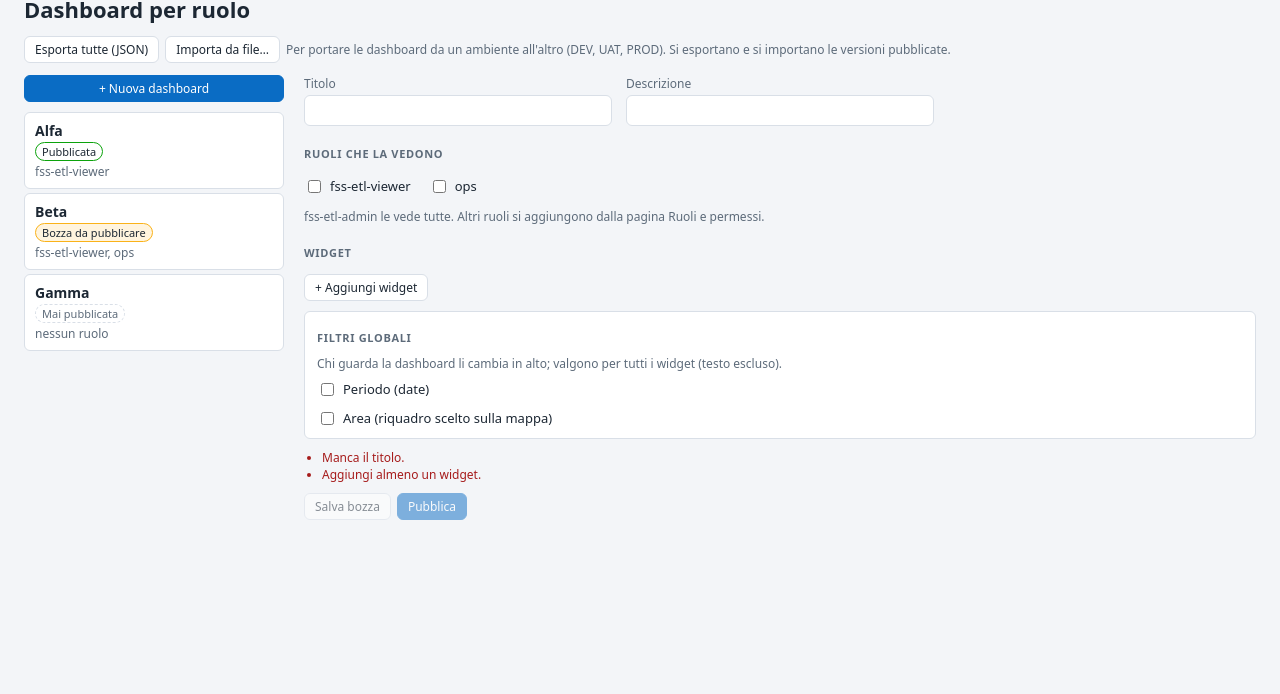
Test: AdminDashboards: bozze e pubblicazione › elimina: dashboard e bozza insieme; bozza nuova da sola
The width and height of the screenshot is (1280, 694).
Click the button "Beta Bozza da pubblicare fss-etl-viewer, ops" at coordinates (154, 232), box [24,193,284,270]
(page scrolled)
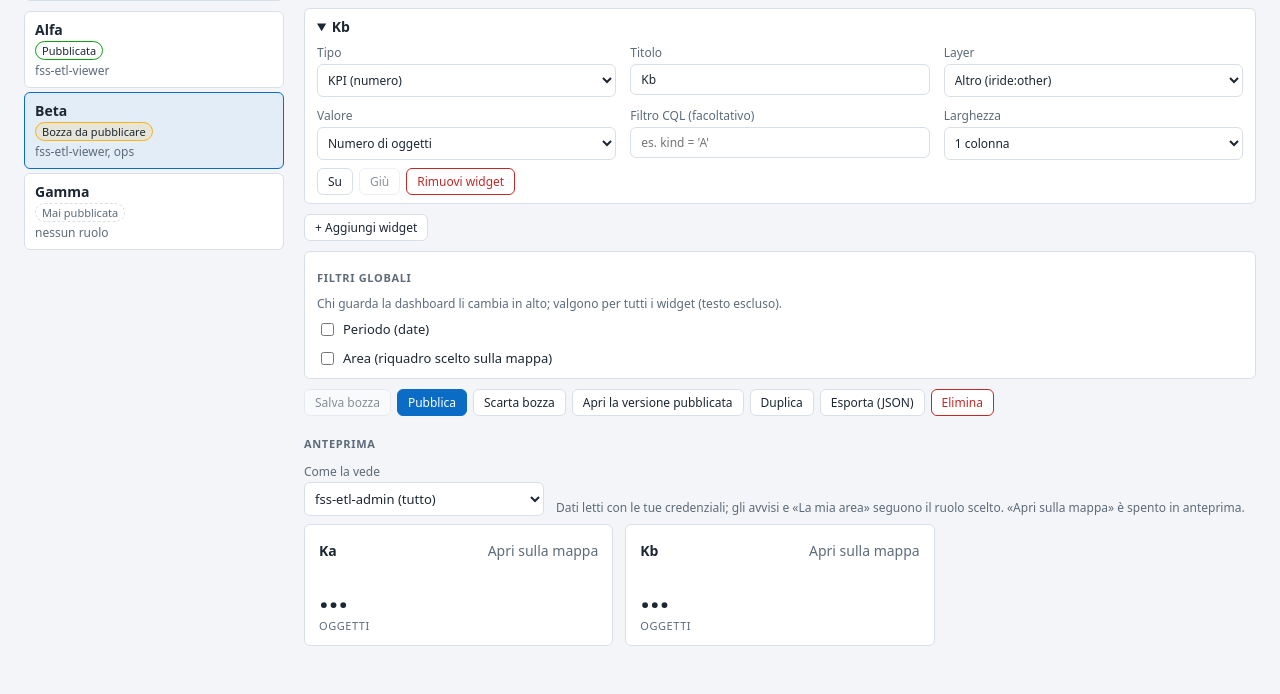
Click the button "Elimina" at coordinates (962, 402), box [931,389,994,416]
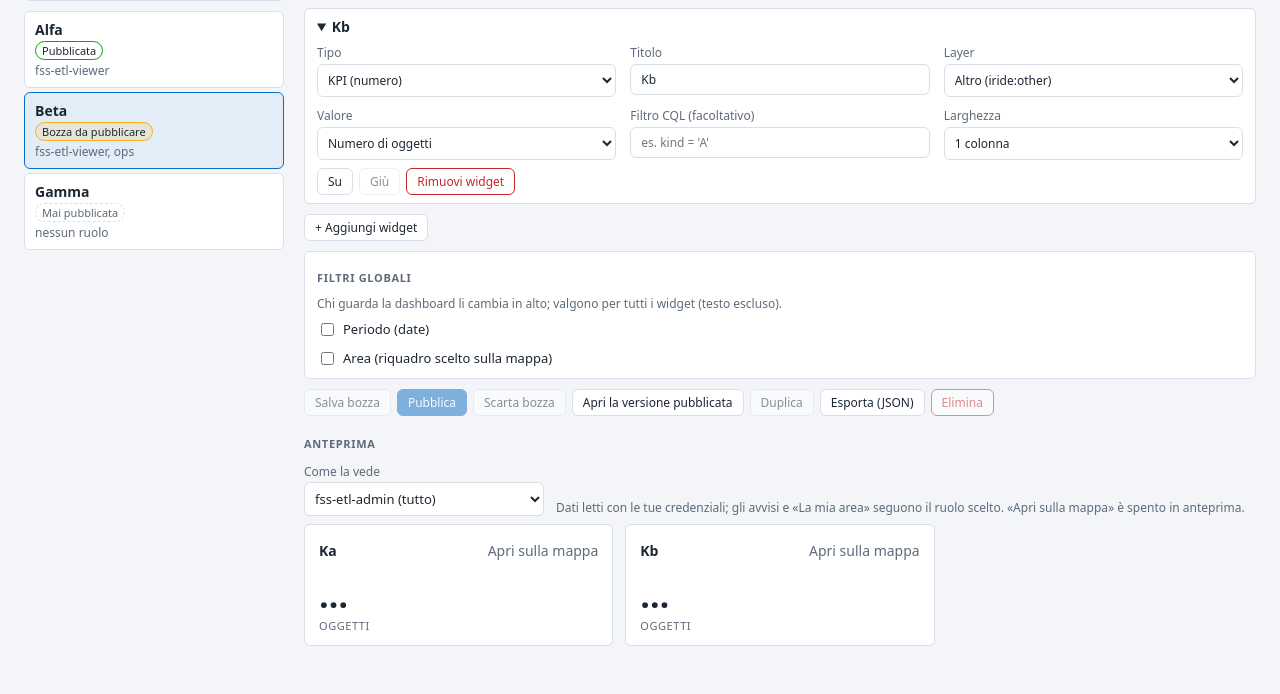
Click the button "Gamma Mai pubblicata nessun ruolo" at coordinates (62, 192), box [24,173,284,250]
(page scrolled)
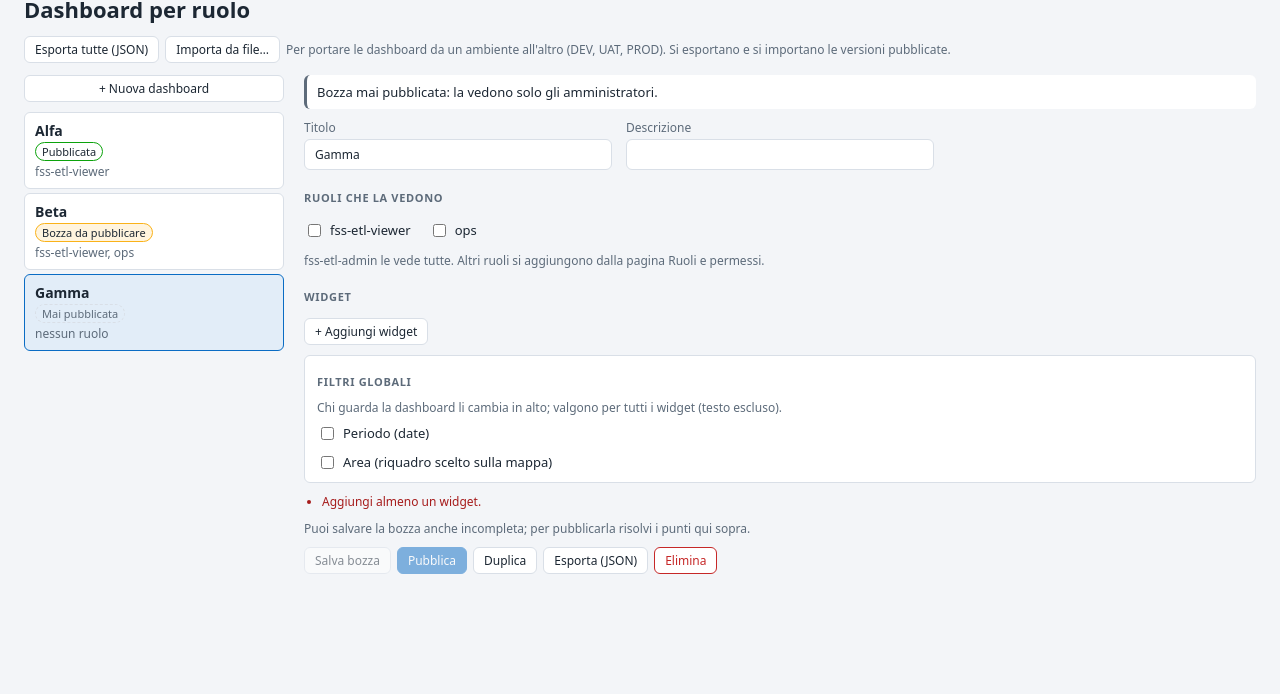
Click the button "Elimina" at coordinates (686, 560), box [654,547,717,574]
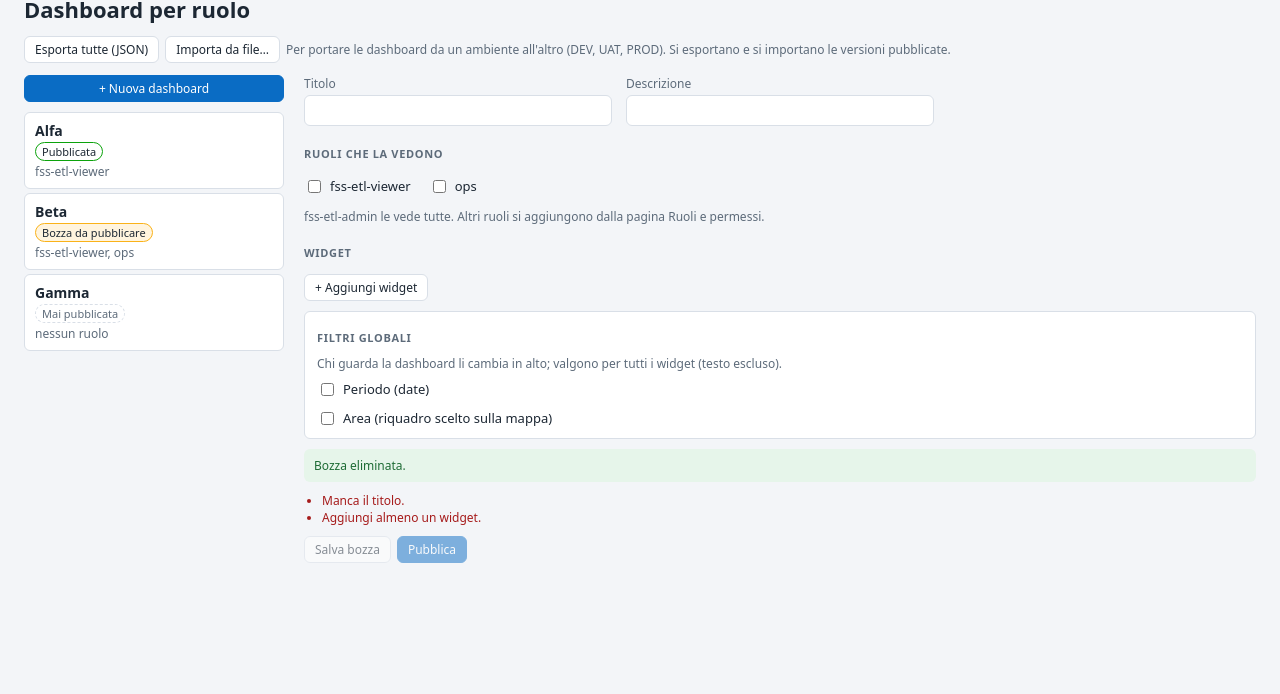
Now the text "Bozza eliminata." is shown, box [304,449,1256,482]
